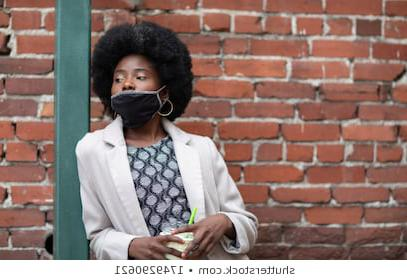mask_weared_incorrect: (112, 69, 153, 116)
